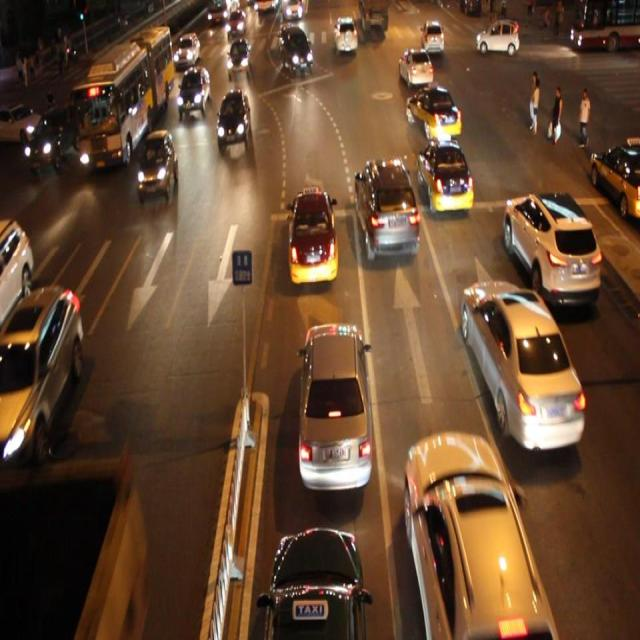bus: (1, 467, 144, 640)
car: (403, 434, 552, 640), (459, 278, 585, 447), (0, 288, 84, 472), (297, 319, 373, 495), (260, 526, 367, 640), (503, 190, 600, 305), (353, 158, 418, 256), (287, 188, 339, 284), (417, 137, 474, 215), (1, 216, 34, 334), (404, 84, 459, 142), (27, 107, 78, 167), (137, 132, 176, 196), (217, 89, 250, 148), (280, 28, 314, 75), (179, 65, 210, 115), (397, 47, 433, 88), (334, 14, 357, 55), (175, 33, 199, 67), (227, 40, 250, 75), (420, 21, 444, 54)
van: (75, 32, 170, 172)
